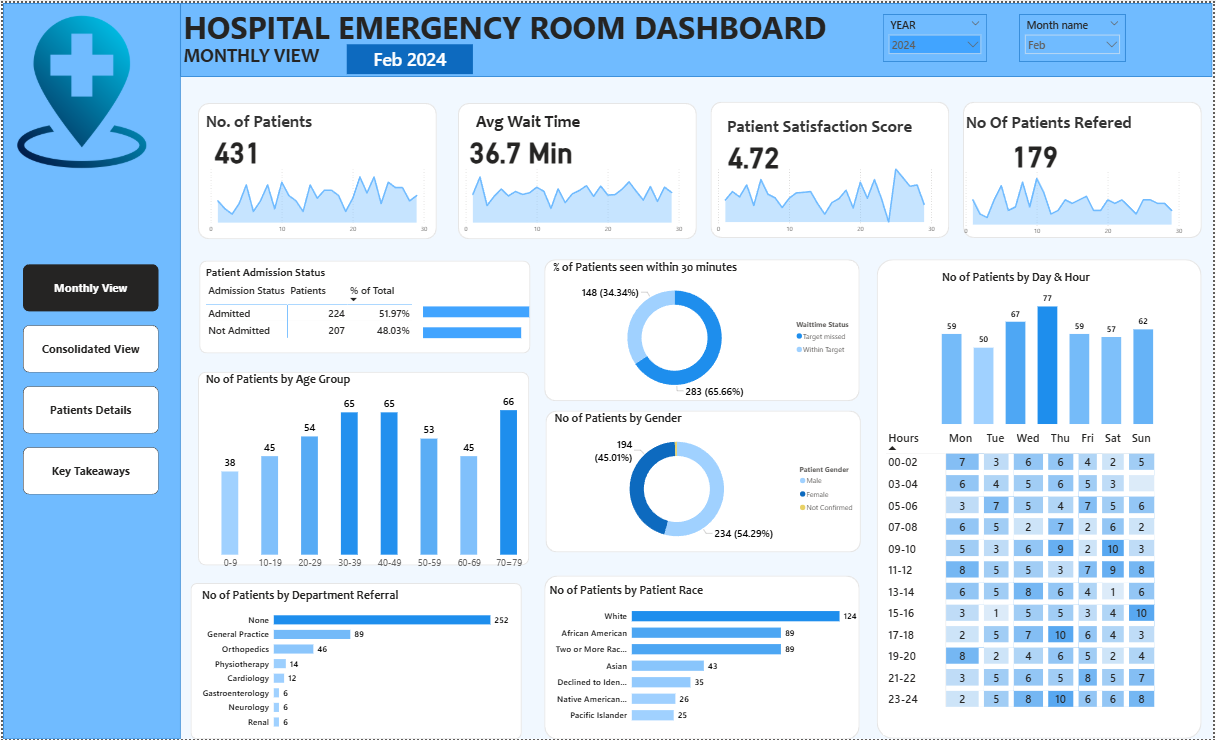

The dashboard page shown, as its layout file describes it:
{"tool":"powerbi","page":{"name":"Monthly View","canvas":[2300,1400],"ordinal":0},"visuals":[{"type":"shape","box":[0,0,337.6,1400.5],"z":0},{"type":"shape","box":[337.8,0,1962.7,140.5],"z":1000},{"type":"textbox","box":[337.8,0,1356.1,111],"z":2000},{"type":"textbox","box":[337.8,71.5,488.2,69],"z":3000},{"type":"shape","box":[370.9,190.2,454.1,259.2],"z":4000},{"type":"card","fields":{"Values":["Hospital ER_Data.No of Patients"]},"box":[337.6,235.4,216.4,85.6],"z":5000},{"type":"slicer","fields":{"Values":["Date Table.YEAR"]},"box":[1673.9,21.4,197.4,90.4],"z":6000},{"type":"slicer","fields":{"Values":["Date Table.Month name"]},"box":[1933.1,21.4,202.1,90.4],"z":7000},{"type":"textbox","box":[380.4,199.7,218.8,69],"z":8000},{"type":"areaChart","fields":{"Category":["Date Table.Date.Variation.Date Hierarchy.Day"],"Y":["Hospital ER_Data.No of Patients"]},"box":[380.4,302,435.1,145],"z":9000},{"type":"card","fields":{"Values":["Min(Date Table.Month & Year)"]},"box":[653.9,78.5,240.2,57.1],"z":10000},{"type":"shape","box":[865.5,190.2,454.1,259.2],"z":11000},{"type":"shape","box":[1345.8,187.8,454.1,259.2],"z":12000},{"type":"shape","box":[1826.1,187.8,454.1,259.2],"z":13000},{"type":"textbox","box":[894,199.7,361.4,69],"z":14000},{"type":"card","fields":{"Values":["Hospital ER_Data.avg wait time"]},"box":[877.4,235.4,216.4,85.6],"z":15000},{"type":"areaChart","fields":{"Category":["Date Table.Date.Variation.Date Hierarchy.Day"],"Y":["Avg(Hospital ER_Data.Patient Waittime)"]},"box":[865.5,302,435.1,145],"z":16000},{"type":"textbox","box":[1372,209.2,370.9,69],"z":17000},{"type":"card","fields":{"Values":["Hospital ER_Data.Satisfaction score"]},"box":[1319.6,244.9,216.4,85.6],"z":18000},{"type":"areaChart","fields":{"Category":["Date Table.Date.Variation.Date Hierarchy.Day"],"Y":["Hospital ER_Data.Satisfaction score"]},"box":[1345.8,302,435.1,145],"z":19000},{"type":"textbox","box":[1826.1,202.1,370.9,69],"z":20000},{"type":"card","fields":{"Values":["Hospital ER_Data.Patients Reffered"]},"box":[1871.3,216.4,183.1,140.3],"z":21000},{"type":"areaChart","fields":{"Category":["Date Table.Date.Variation.Date Hierarchy.Day"],"Y":["Hospital ER_Data.Patients Reffered"]},"box":[1816.6,306.7,435.1,145],"z":22000},{"type":"shape","box":[373.3,489.8,630,177],"z":23000},{"type":"pivotTable","title":"Patient Admission Status ","fields":{"Rows":["Hospital ER_Data.Admission Status"],"Values":["Hospital ER_Data.No of Patients","Divide(Hospital ER_Data.No of Patients, ScopedEval(Hospital ER_Data.No of Patients, []))"]},"box":[380.4,499.3,606.3,156.9],"z":24000},{"type":"barChart","fields":{"Y":["Hospital ER_Data.No of Patients"],"Category":["Hospital ER_Data.Admission Status"]},"box":[794.2,544.5,280.6,121.3],"z":25000},{"type":"shape","box":[370.9,701.4,630.1,368.5],"z":26000},{"type":"clusteredColumnChart","fields":{"Category":["Hospital ER_Data.Age Group"],"Y":["Hospital ER_Data.No of Patients"]},"box":[380.4,701.4,634.9,385.2],"z":27000},{"type":"shape","box":[356.7,1103.3,630.1,297.2],"z":28000},{"type":"clusteredBarChart","fields":{"Category":["Hospital ER_Data.Department Referral"],"Y":["Hospital ER_Data.No of Patients"]},"box":[373.3,1112.8,596.8,280.6],"z":29000},{"type":"shape","box":[1029.6,487.4,600,270],"z":30000},{"type":"donutChart","title":"% of Patients seen within 30 minutes","fields":{"Category":["Hospital ER_Data.Waittime Status"],"Y":["Hospital ER_Data.No of Patients"]},"box":[1041.4,487.4,587.3,271.1],"z":31000},{"type":"shape","box":[1031.6,775.8,600,270],"z":32000},{"type":"donutChart","title":"No of Patients by Gender","fields":{"Y":["Hospital ER_Data.No of Patients"],"Category":["Hospital ER_Data.Patient Gender"]},"box":[1043.4,775.8,587.3,271.1],"z":33000},{"type":"shape","box":[1030,1088,600,312],"z":34000},{"type":"clusteredBarChart","fields":{"Category":["Hospital ER_Data.Patient Race"],"Y":["Hospital ER_Data.No of Patients"]},"box":[1034,1104,596,280],"z":35000},{"type":"shape","box":[1662,488,618,912],"z":36000},{"type":"pivotTable","fields":{"Rows":["Hospital ER_Data.Waittime Interval"],"Columns":["Date Table.Day Name"],"Values":["Hospital ER_Data.No of Patients"]},"box":[1674,806,544,586],"z":37000},{"type":"columnChart","title":"No of Patients by Day & Hour","fields":{"Category":["Date Table.Day Name"],"Y":["Hospital ER_Data.No of Patients"]},"box":[1782,506,414,300],"z":38000},{"type":"image","box":[0,19.5,300,300],"z":39000},{"type":"pageNavigator","box":[39,497.6,258.5,439],"z":39001}]}

Visuals, with their boxes in screenshot pixels (x1, y1, x2, y2), scaled from the page's 2300x1400 canvas onto the 1216x740 screenshot:
shape: left=0, top=0, right=178, bottom=739
shape: left=179, top=0, right=1215, bottom=74
textbox: left=179, top=0, right=896, bottom=59
textbox: left=179, top=38, right=437, bottom=74
shape: left=196, top=101, right=436, bottom=238
card - Hospital ER_Data.No of Patients: left=178, top=124, right=293, bottom=170
slicer - Date Table.YEAR: left=885, top=11, right=989, bottom=59
slicer - Date Table.Month name: left=1022, top=11, right=1129, bottom=59
textbox: left=201, top=106, right=317, bottom=142
areaChart - Date Table.Date.Variation.Date Hierarchy.Day x Hospital ER_Data.No of Patients: left=201, top=160, right=431, bottom=236
card - Min(Date Table.Month & Year): left=346, top=41, right=473, bottom=72
shape: left=458, top=101, right=698, bottom=238
shape: left=712, top=99, right=952, bottom=236
shape: left=965, top=99, right=1206, bottom=236
textbox: left=473, top=106, right=664, bottom=142
card - Hospital ER_Data.avg wait time: left=464, top=124, right=578, bottom=170
areaChart - Date Table.Date.Variation.Date Hierarchy.Day x Avg(Hospital ER_Data.Patient Waittime): left=458, top=160, right=688, bottom=236
textbox: left=725, top=111, right=921, bottom=147
card - Hospital ER_Data.Satisfaction score: left=698, top=129, right=812, bottom=175
areaChart - Date Table.Date.Variation.Date Hierarchy.Day x Hospital ER_Data.Satisfaction score: left=712, top=160, right=942, bottom=236
textbox: left=965, top=107, right=1162, bottom=143
card - Hospital ER_Data.Patients Reffered: left=989, top=114, right=1086, bottom=189
areaChart - Date Table.Date.Variation.Date Hierarchy.Day x Hospital ER_Data.Patients Reffered: left=960, top=162, right=1190, bottom=239
shape: left=197, top=259, right=530, bottom=352
"Patient Admission Status " pivotTable: left=201, top=264, right=522, bottom=347
barChart - Hospital ER_Data.No of Patients x Hospital ER_Data.Admission Status: left=420, top=288, right=568, bottom=352
shape: left=196, top=371, right=529, bottom=566
clusteredColumnChart - Hospital ER_Data.Age Group x Hospital ER_Data.No of Patients: left=201, top=371, right=537, bottom=574
shape: left=189, top=583, right=522, bottom=739
clusteredBarChart - Hospital ER_Data.Department Referral x Hospital ER_Data.No of Patients: left=197, top=588, right=513, bottom=737
shape: left=544, top=258, right=862, bottom=400
"% of Patients seen within 30 minutes" donutChart: left=551, top=258, right=861, bottom=401
shape: left=545, top=410, right=863, bottom=553
"No of Patients by Gender" donutChart: left=552, top=410, right=862, bottom=553
shape: left=545, top=575, right=862, bottom=739
clusteredBarChart - Hospital ER_Data.Patient Race x Hospital ER_Data.No of Patients: left=547, top=584, right=862, bottom=732
shape: left=879, top=258, right=1205, bottom=739
pivotTable - Hospital ER_Data.Waittime Interval x Date Table.Day Name: left=885, top=426, right=1173, bottom=736
"No of Patients by Day & Hour" columnChart: left=942, top=267, right=1161, bottom=426
image: left=0, top=10, right=159, bottom=169
pageNavigator: left=21, top=263, right=157, bottom=495
